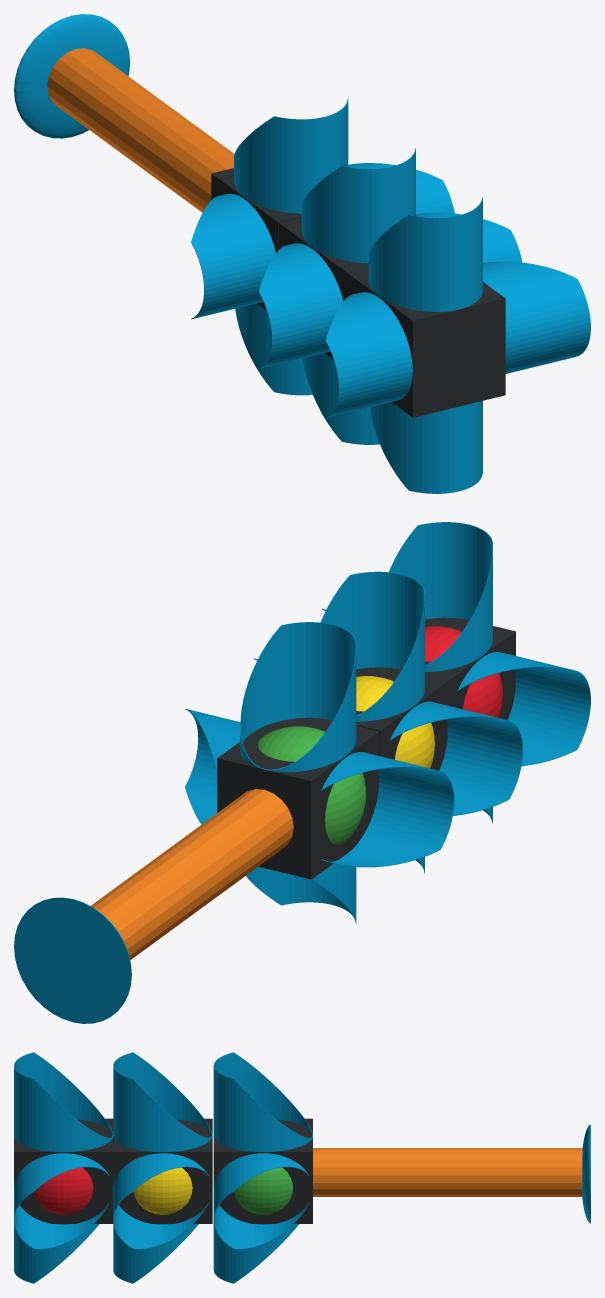
File: tinker.obj
3 renders of one model, top to bottom at view 1: azimuth 30°, elevation 25°; view 2: azimuth 150°, elevation 25°; view 3: azimuth 270°, elevation 25°, orthographic. The views are drawn at different scales.
Parts seen in each view (by area): view 1: group_0_40919, group_0_2829873, group_0_16089887; view 2: group_0_40919, group_0_2829873, group_0_16089887, group_0_4634441, group_0_16768282, group_0_15277357; view 3: group_0_40919, group_0_16089887, group_0_2829873, group_0_16768282, group_0_15277357, group_0_4634441.
Boxes of the visible parts, bbox=[...] form: group_0_40919: bbox=[14, 14, 590, 493]; group_0_2829873: bbox=[211, 168, 505, 417]; group_0_16089887: bbox=[47, 48, 234, 212]; group_0_40919: bbox=[14, 522, 590, 1023]; group_0_2829873: bbox=[217, 617, 515, 879]; group_0_16089887: bbox=[91, 789, 293, 959]; group_0_4634441: bbox=[258, 726, 366, 844]; group_0_16768282: bbox=[356, 676, 434, 768]; group_0_15277357: bbox=[425, 626, 502, 717]; group_0_40919: bbox=[14, 1052, 590, 1283]; group_0_16089887: bbox=[313, 1148, 582, 1196]; group_0_2829873: bbox=[14, 1118, 312, 1223]; group_0_16768282: bbox=[133, 1167, 192, 1214]; group_0_15277357: bbox=[34, 1167, 93, 1214]; group_0_4634441: bbox=[234, 1167, 292, 1214].
Size of the model in its own units: 43.5 by 45.5 by 116.
